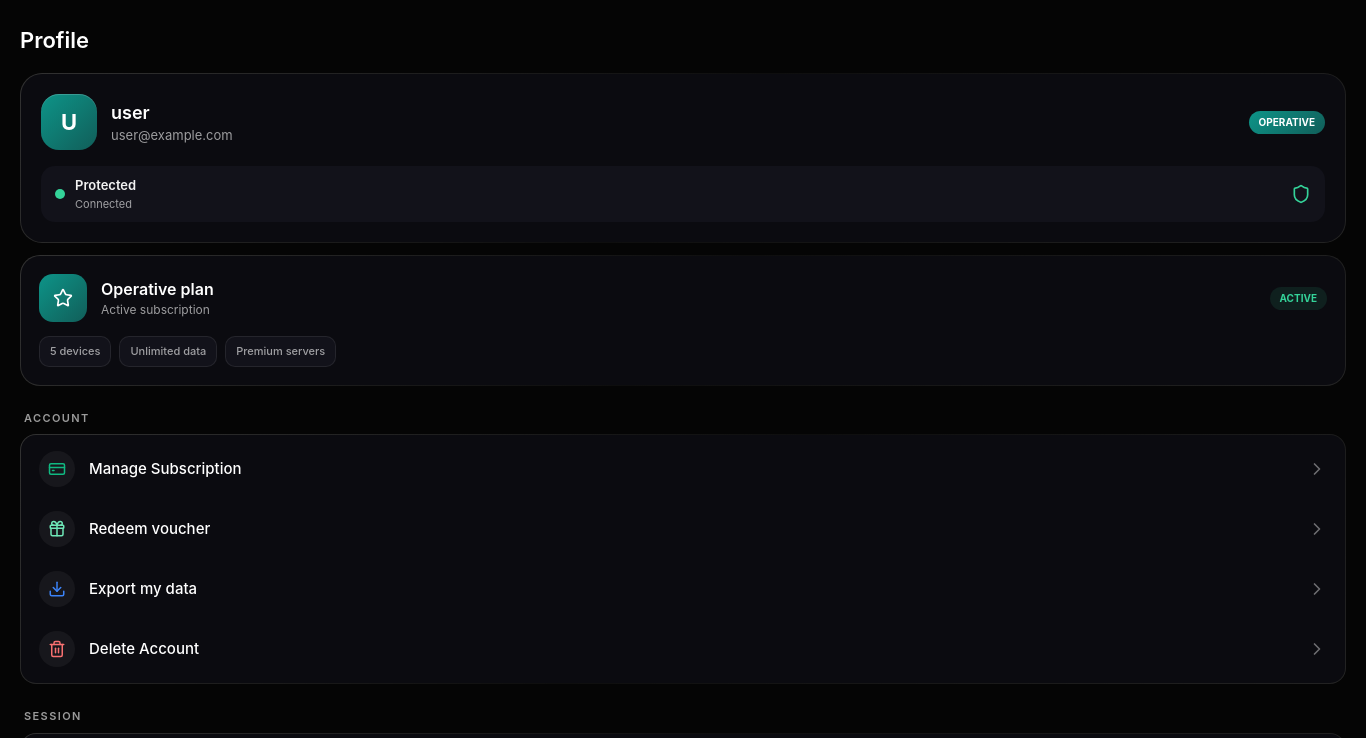
Test: Delete account dialog › never shows a legacy raw error string; an unclassified refusal gets a sentence about deleting
Click the button "Delete Account": (57, 649) top-left (25, 619), bottom-right (1341, 679)
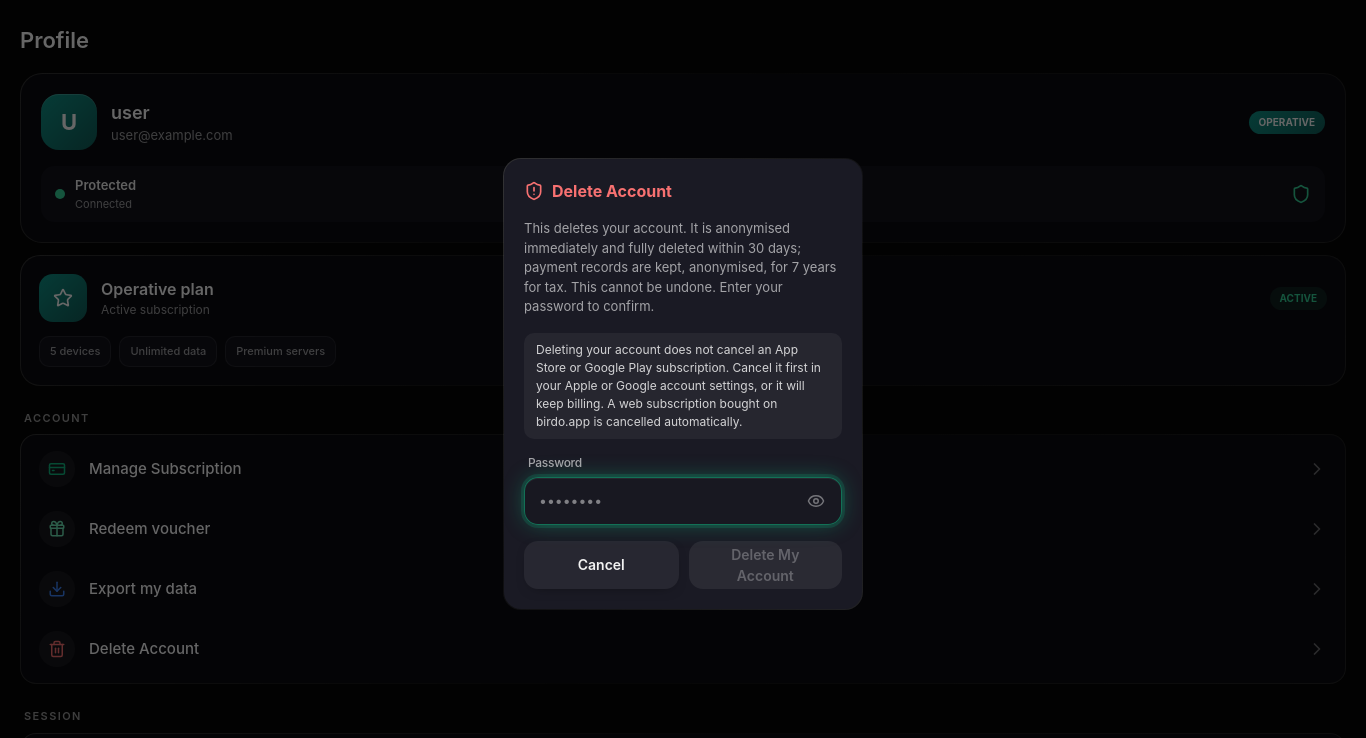
In the password field with placeholder "••••••••": (667, 501) top-left (539, 491), bottom-right (795, 511), type "hunter2"
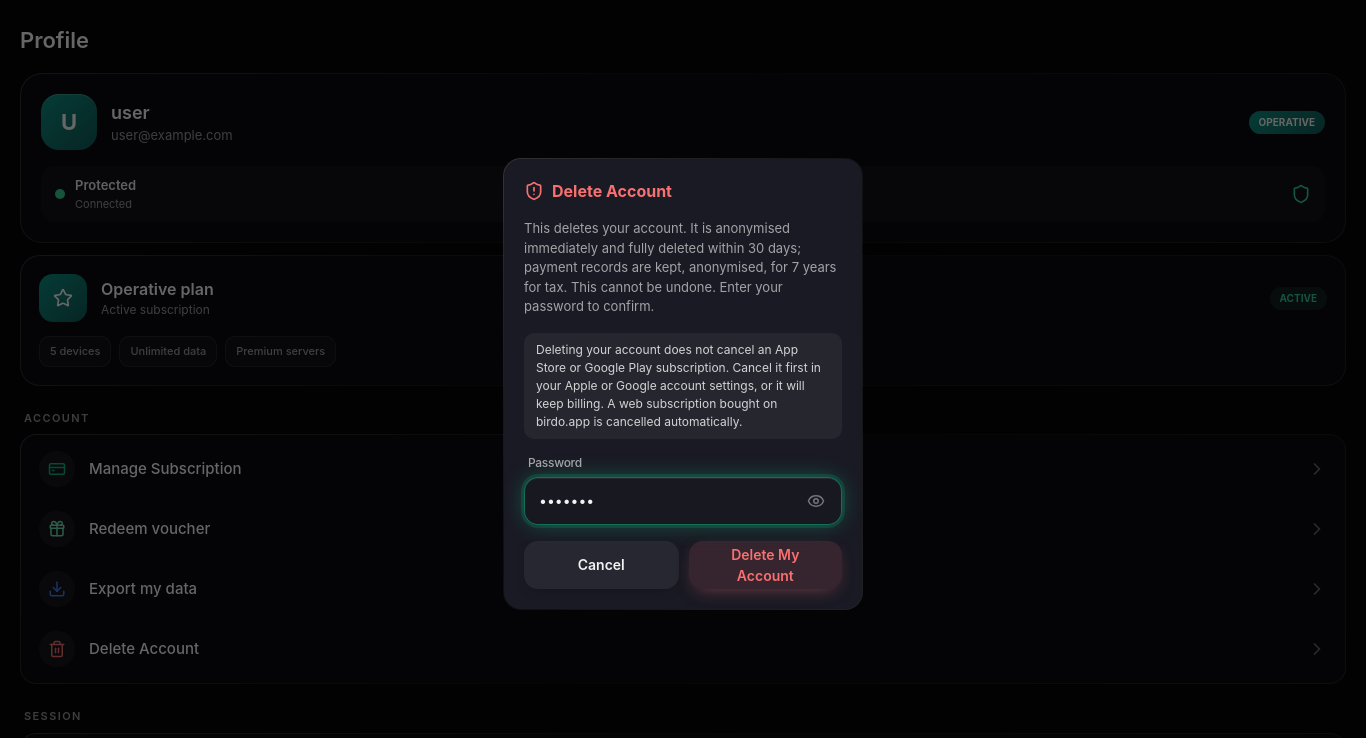
Click the button "Delete My Account": (765, 565) top-left (689, 541), bottom-right (842, 589)
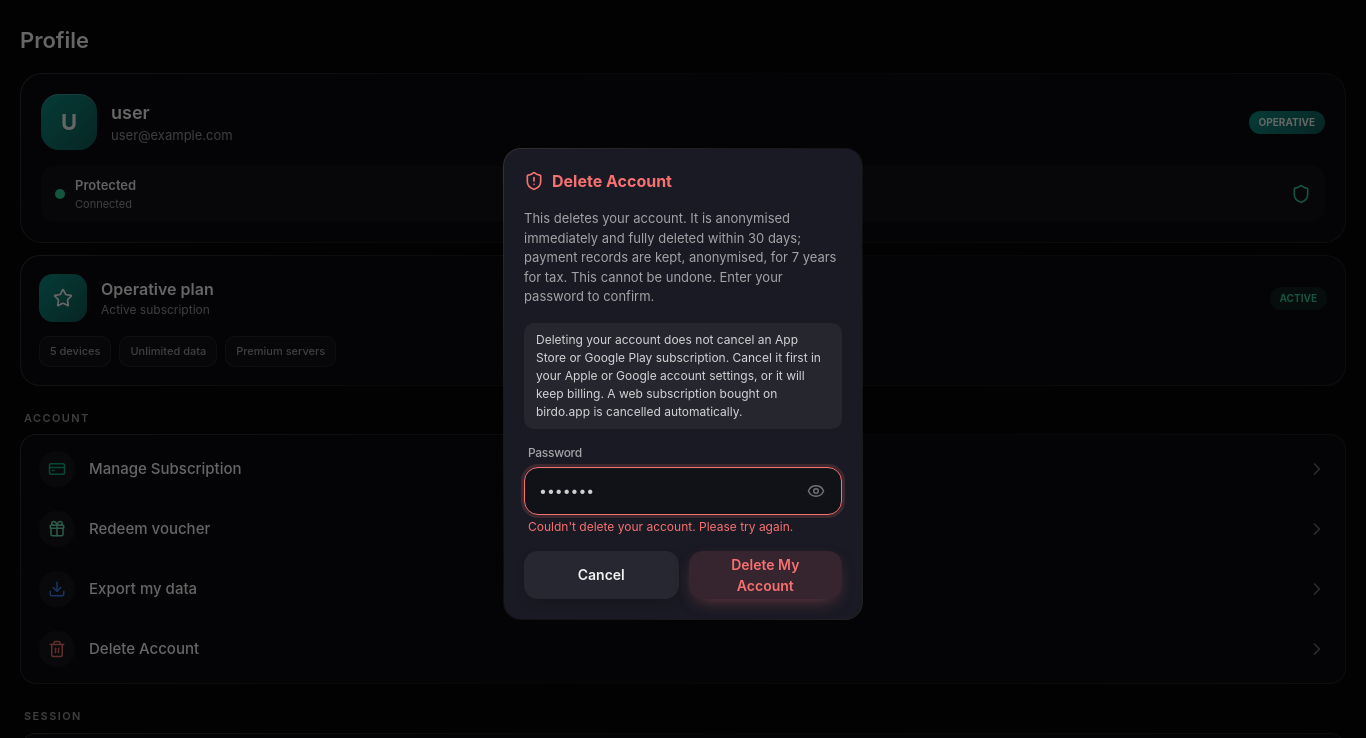
expect the text "Couldn't delete your account. Please try again." is shown: met, box top-left (528, 519), bottom-right (793, 534)
